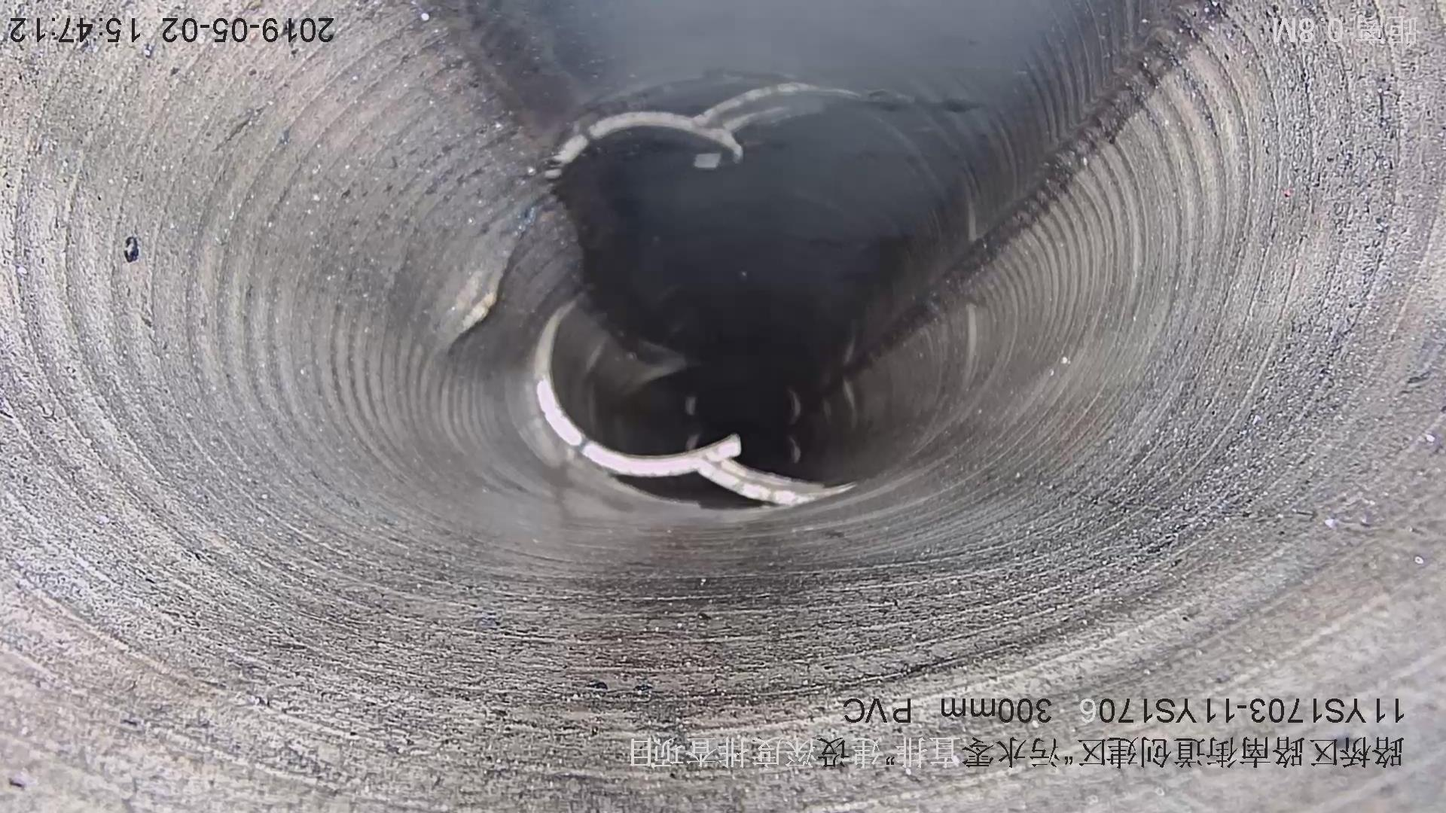BX: (422, 227, 938, 551)
JKCL: (532, 304, 854, 507)
